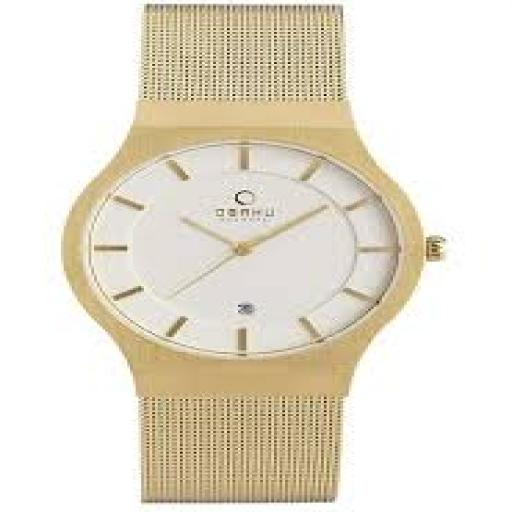KolSaati: (65, 4, 461, 510)
